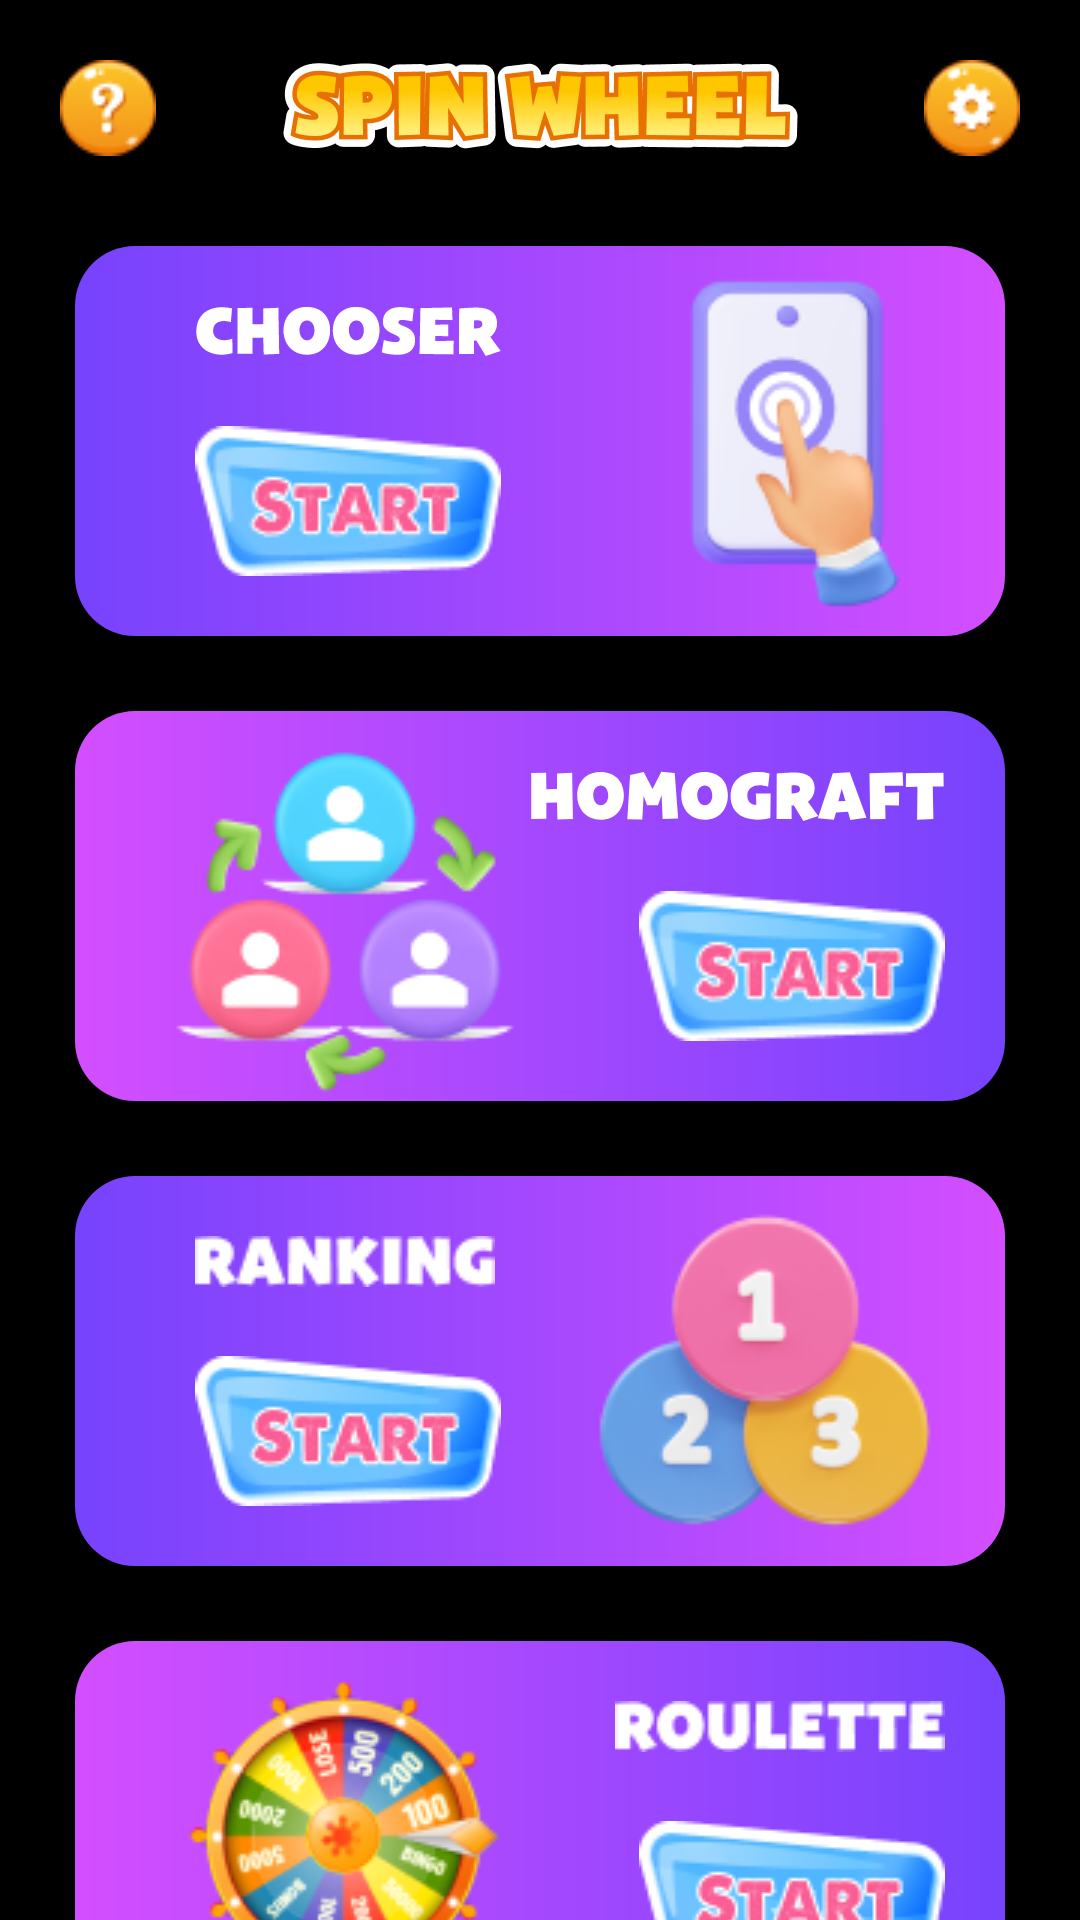

Icon click points for this 1080x1920 phone screenshot, format point (x, y):
setting: point (972, 108)
